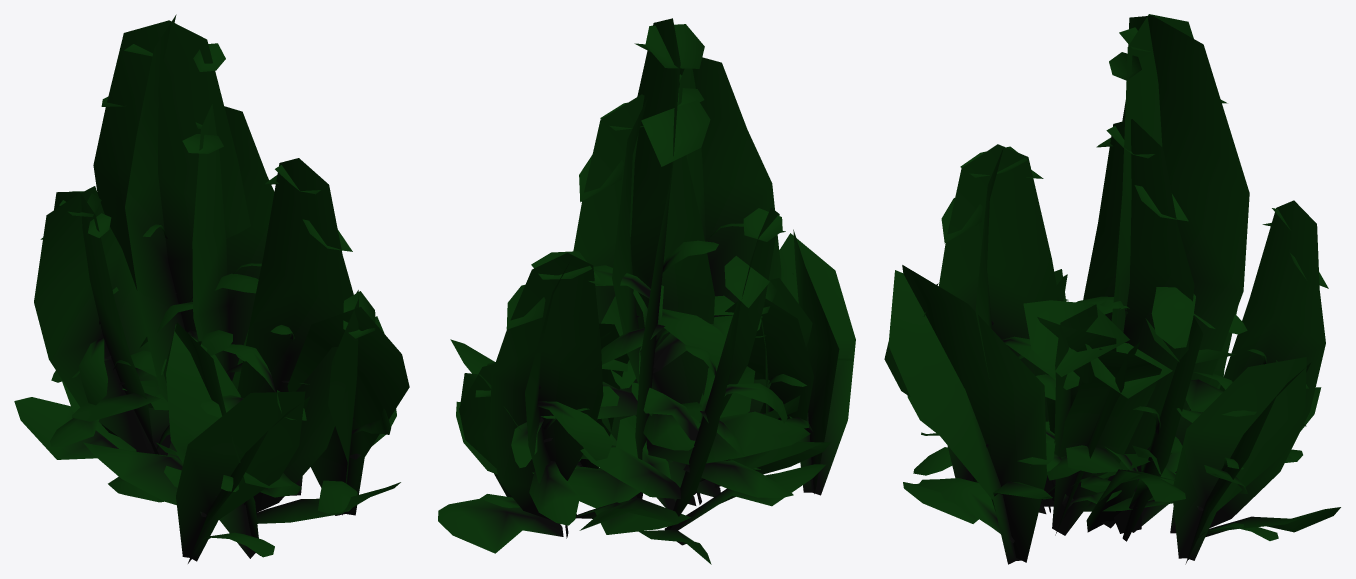
Rendered from FlowersWhiteGCATA_G.fbx.
3 renders of one model, left to right at view 1: azimuth 30°, elevation 25°; view 2: azimuth 150°, elevation 25°; view 3: azimuth 270°, elevation 25°, orthographic. The views are drawn at different scales.
Parts seen in each view (by area): view 1: FWGCATAG_LOD0; view 2: FWGCATAG_LOD0; view 3: FWGCATAG_LOD0.
Boxes of the visible parts, x1,y1,x2,y2 form: FWGCATAG_LOD0: [14, 14, 409, 563]; FWGCATAG_LOD0: [438, 18, 855, 564]; FWGCATAG_LOD0: [884, 14, 1340, 564].
Size of what is drawn, in the model's own units: 0.6584 by 0.9443 by 0.788.
